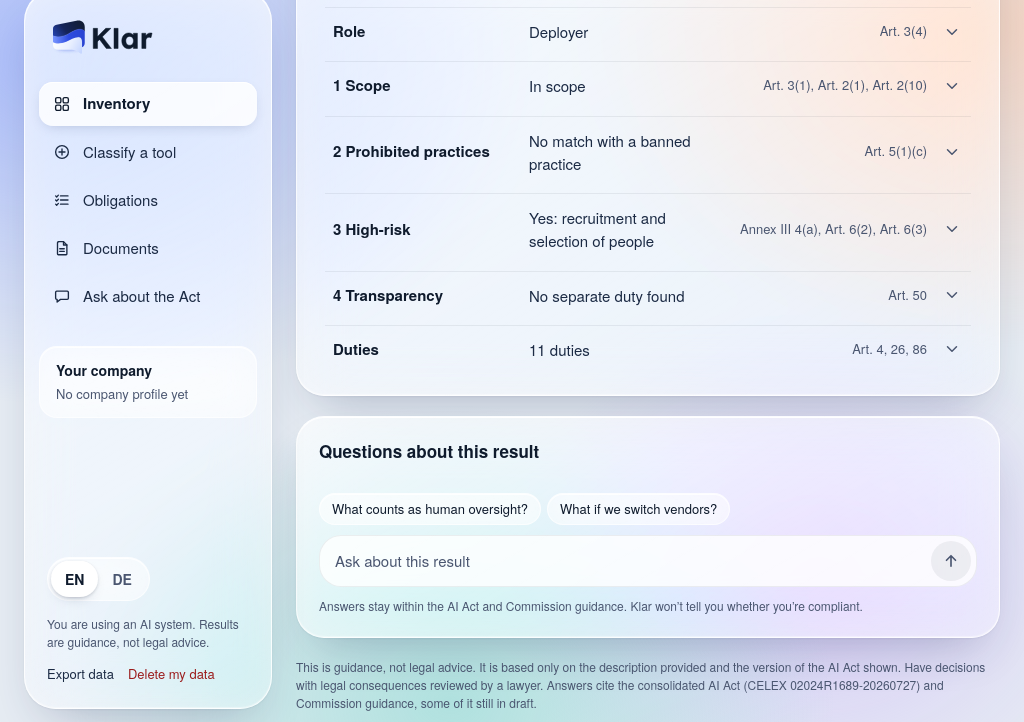
Test: The summary under the original text › shows the dates notice once, also with the Duties step open
(page scrolled)
Step 1. Click the button "Duties 11 duties Art. 4, 26, 86" → [356, 349], box 325,326 -> 971,373
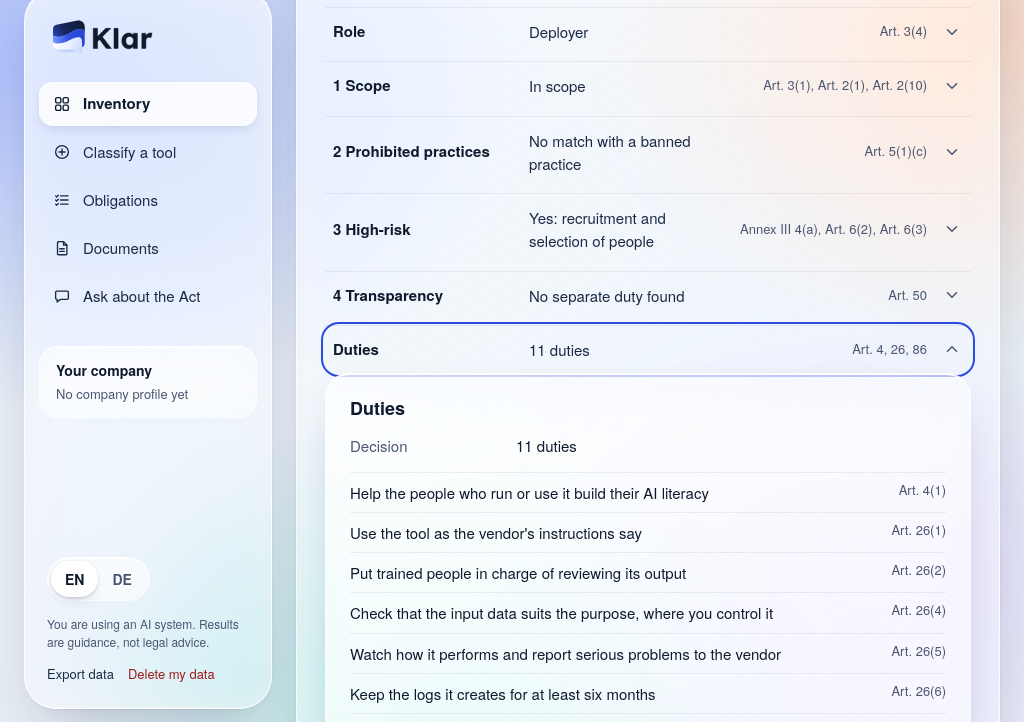
Expected: the button "Duties 11 duties Art. 4, 26, 86" is expanded, 325,326 -> 971,373
